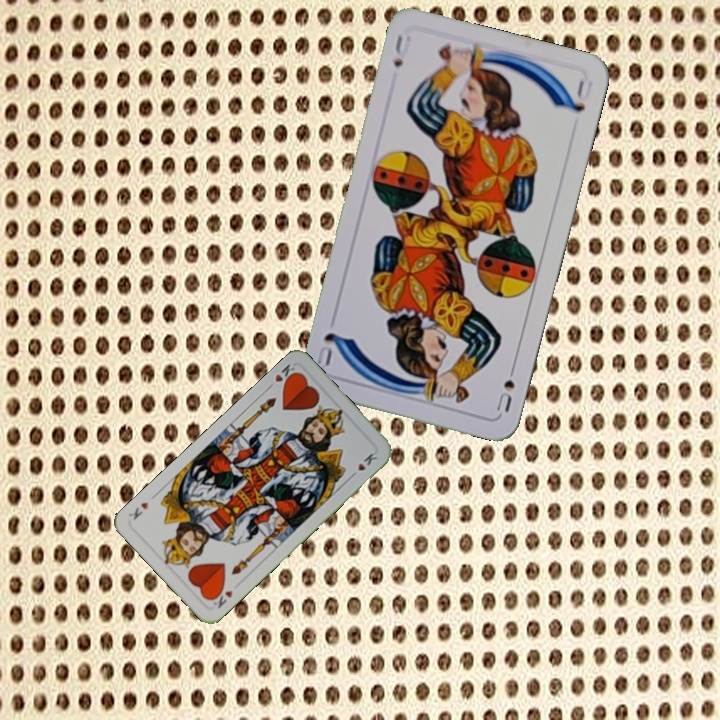HK: (263, 360, 301, 392), (207, 584, 235, 611)
SU: (492, 358, 518, 415), (389, 30, 414, 70)
